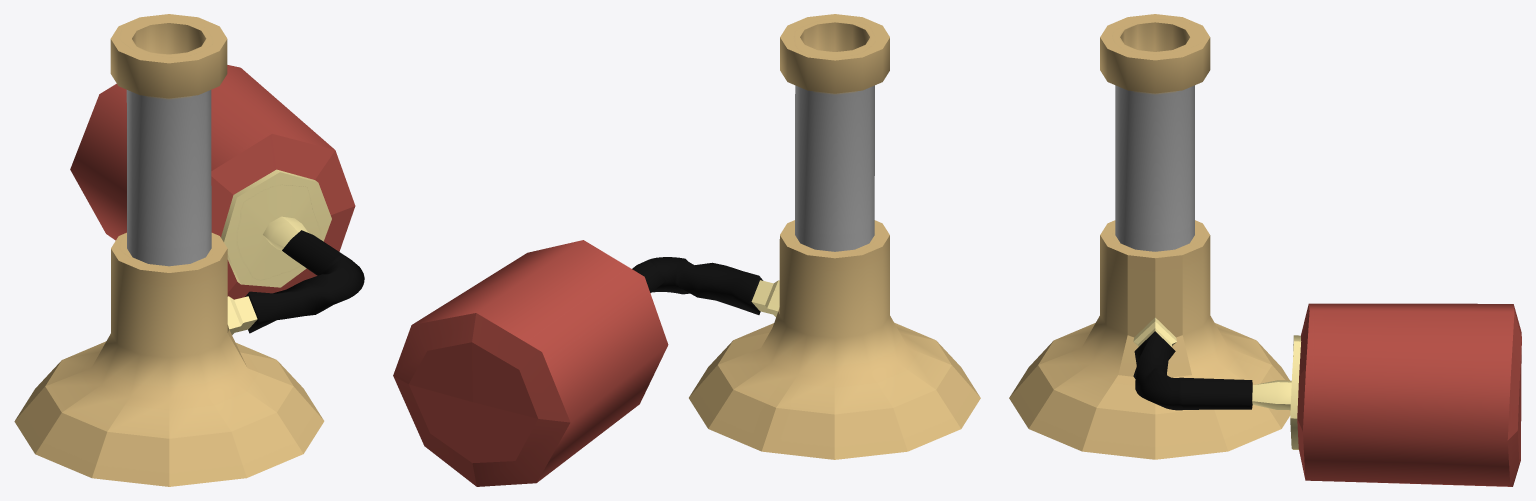
The model's file is bunsenBurner.fbx.
3 renders of one model, left to right at view 1: azimuth 30°, elevation 25°; view 2: azimuth 150°, elevation 25°; view 3: azimuth 270°, elevation 25°, orthographic. The views are drawn at different scales.
Parts seen in each view (by area): view 1: BunsenBurner; view 2: BunsenBurner; view 3: BunsenBurner.
Part boxes in pixels (x1=…): BunsenBurner: x1=14, y1=14, x2=364, y2=486; BunsenBurner: x1=393, y1=14, x2=980, y2=486; BunsenBurner: x1=1009, y1=14, x2=1521, y2=486.
Size of the model in its own units: 3.1 by 2.74 by 3.51.
